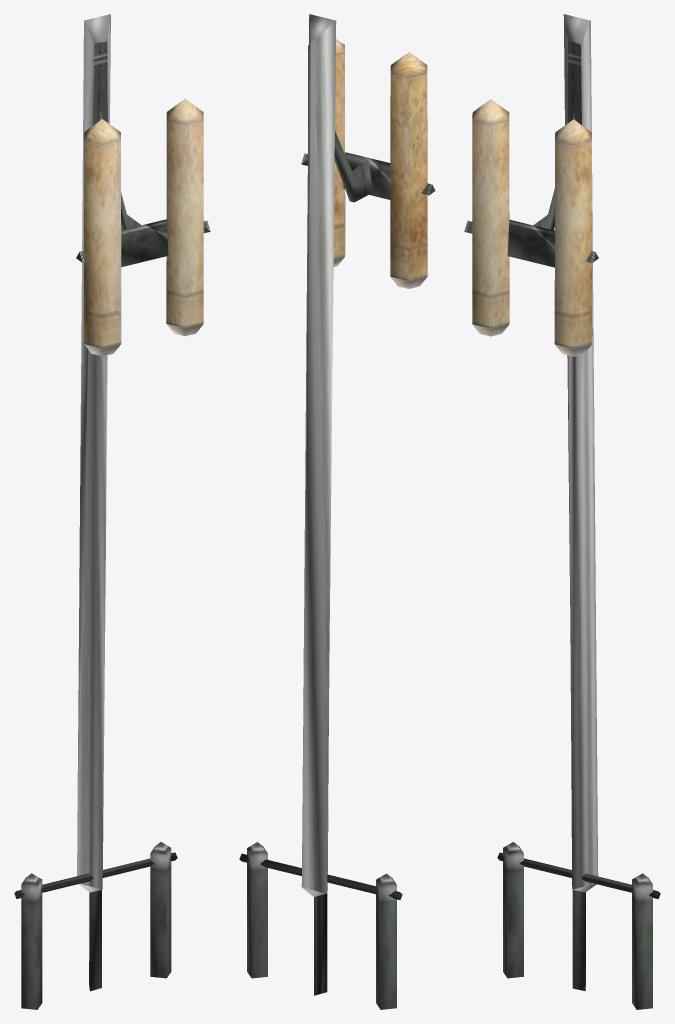
Rendered from frn_all_streetlamp_lg_s1_l1.fbx.
The picture shows the model from 3 angles, left to right: view 1: azimuth 30°, elevation 25°; view 2: azimuth 150°, elevation 25°; view 3: azimuth 330°, elevation 25°; orthographic projection.
Parts seen in each view (by area): view 1: mesh_node; view 2: mesh_node; view 3: mesh_node.
Boxes of the visible parts, bbox=[...] form: mesh_node: bbox=[14, 14, 210, 1009]; mesh_node: bbox=[239, 14, 435, 1009]; mesh_node: bbox=[464, 14, 660, 1009].
Size of the model in its own units: 0.6918 by 4.05 by 0.4981.
